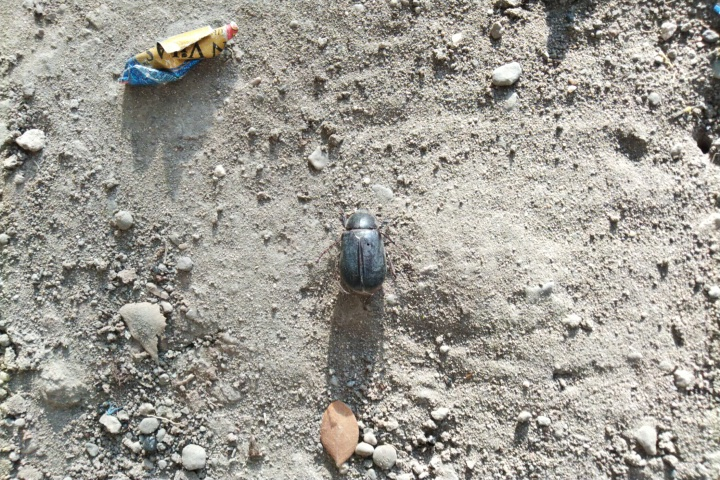INS-A: (311, 201, 403, 300)
